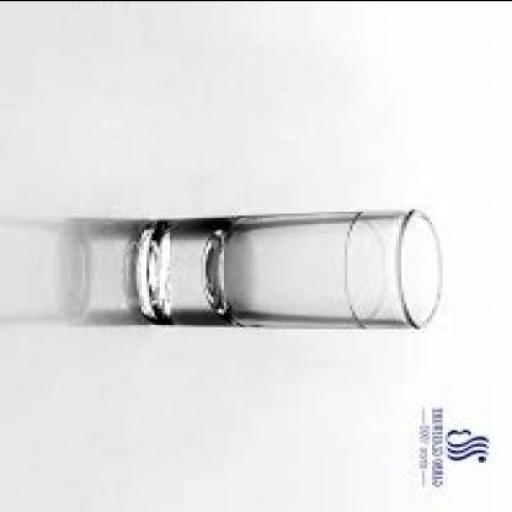glass: (136, 212, 445, 330)
